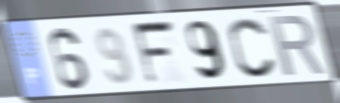6: (47, 25, 90, 92)
9: (185, 19, 227, 83), (95, 25, 134, 87)
C: (227, 15, 279, 80)
F: (130, 18, 178, 88)
R: (266, 13, 328, 79)
